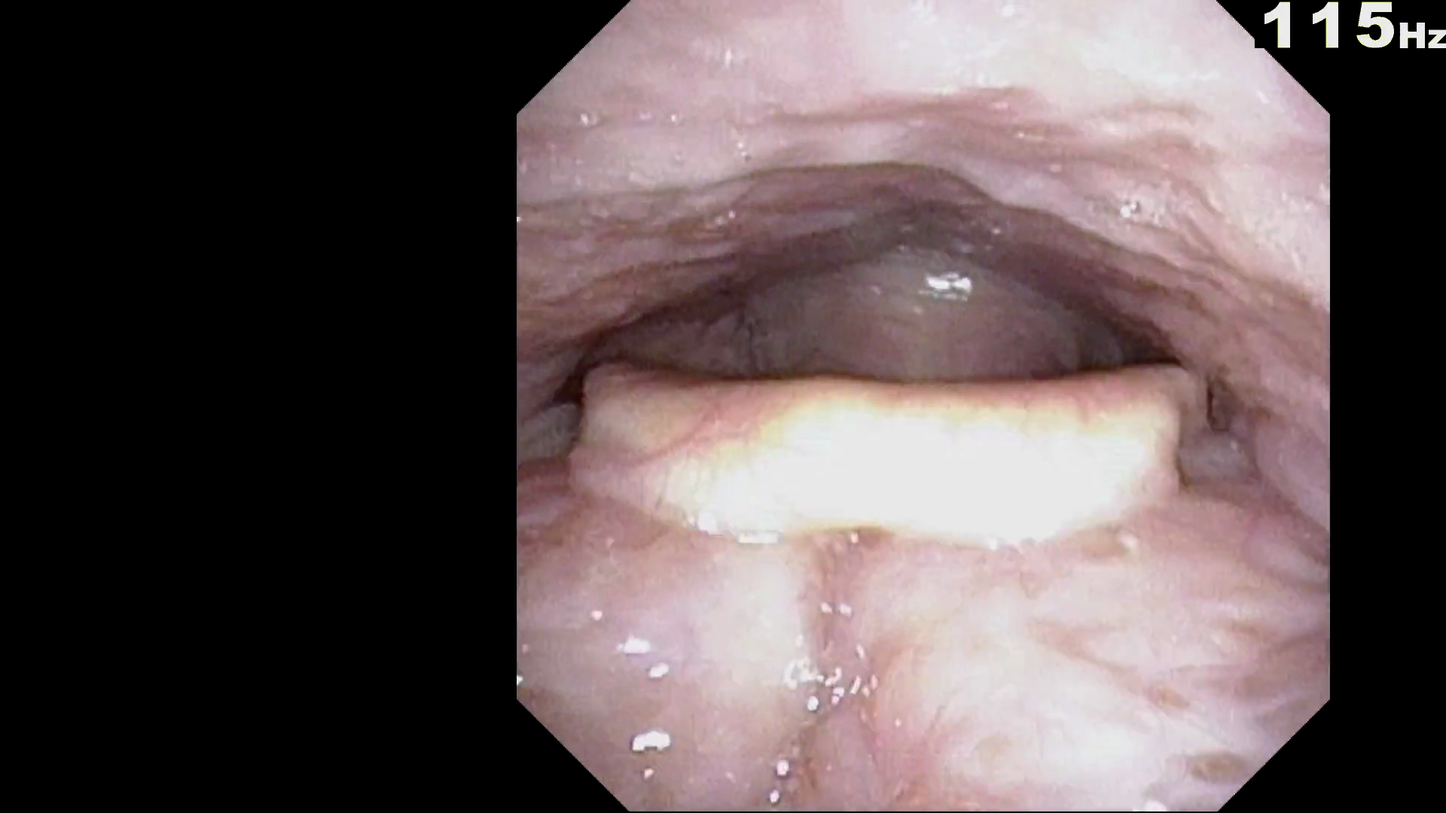epiglottis: (590, 321, 1214, 615)
trachea: (849, 351, 1016, 565)
